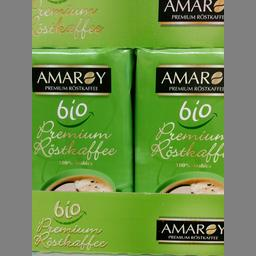coffee: (32, 47, 131, 191), (132, 47, 222, 192)
